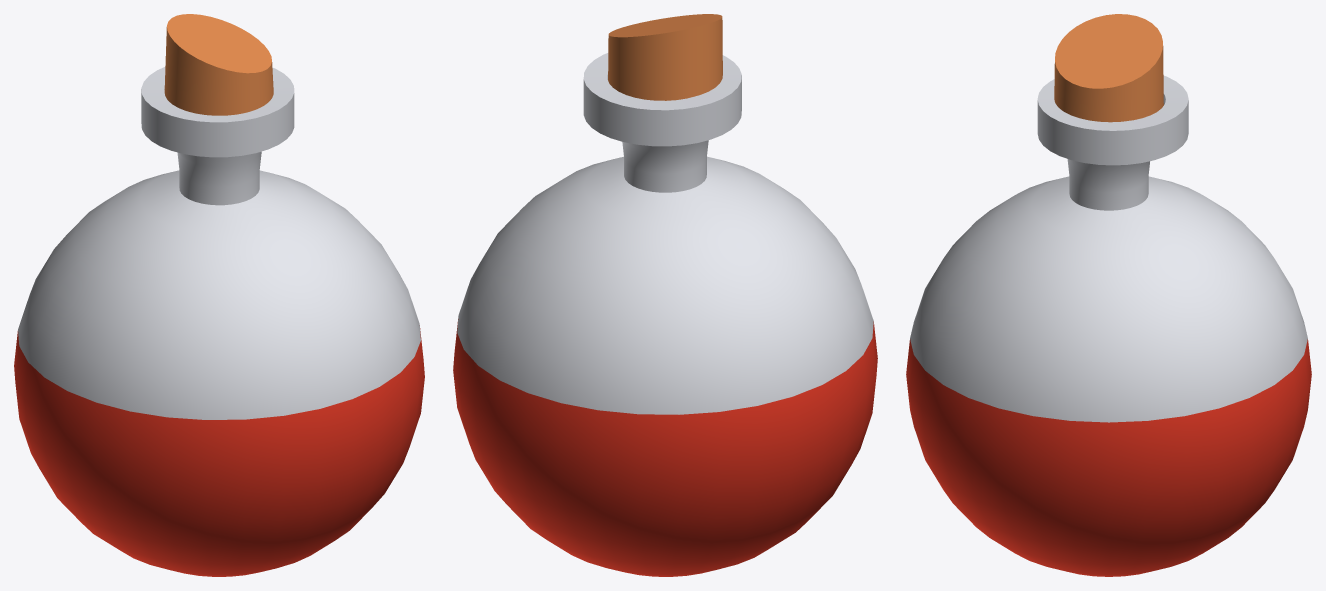
Rendered from Potion.fbx.
3 renders of one model, left to right at view 1: azimuth 30°, elevation 25°; view 2: azimuth 150°, elevation 25°; view 3: azimuth 270°, elevation 25°, orthographic. The views are drawn at different scales.
Visible parts, largest first — view 1: Sphere, Cylinder; view 2: Sphere, Cylinder; view 3: Sphere, Cylinder.
Boxes of the visible parts, <box> form: Sphere: <box>14,67,424,576</box>; Cylinder: <box>164,14,273,115</box>; Sphere: <box>453,53,877,576</box>; Cylinder: <box>608,14,722,100</box>; Sphere: <box>906,75,1311,576</box>; Cylinder: <box>1054,14,1163,122</box>.
Size of the model in its own units: 200 by 285 by 200.
